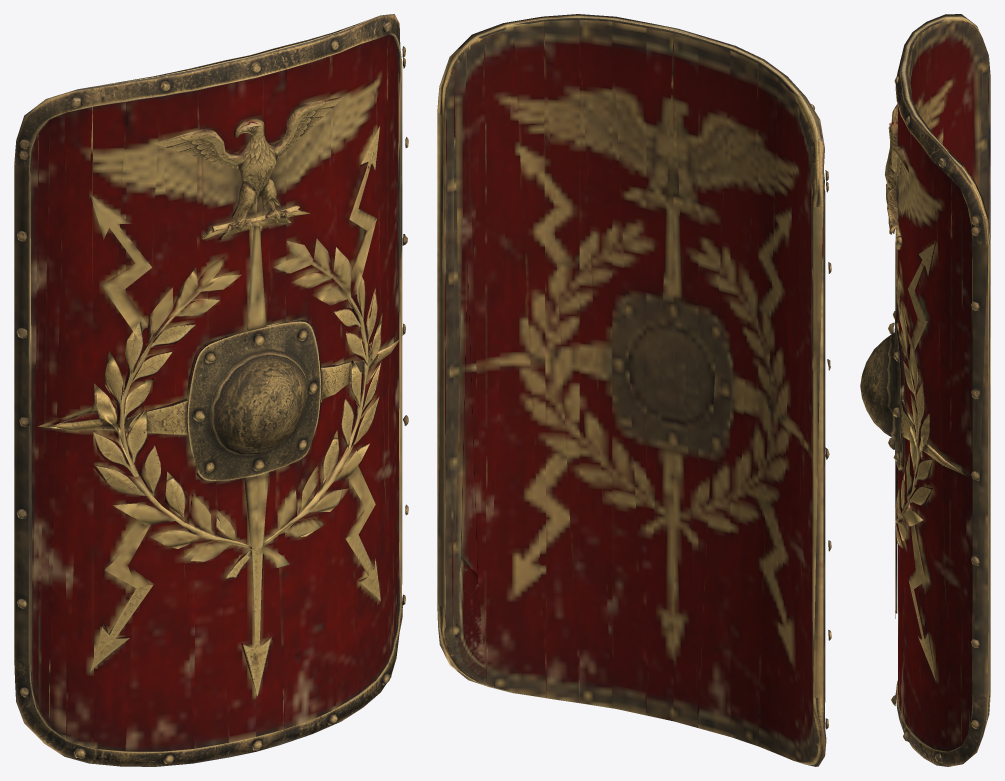
Rendered from centurion-aquila.glb.
3 renders of one model, left to right at view 1: azimuth 30°, elevation 25°; view 2: azimuth 150°, elevation 25°; view 3: azimuth 270°, elevation 25°, orthographic. The views are drawn at different scales.
Bounding box in the file's own units: 0.6485 × 1.1 × 0.2043.
Materials: 1 (1 with a texture image).
